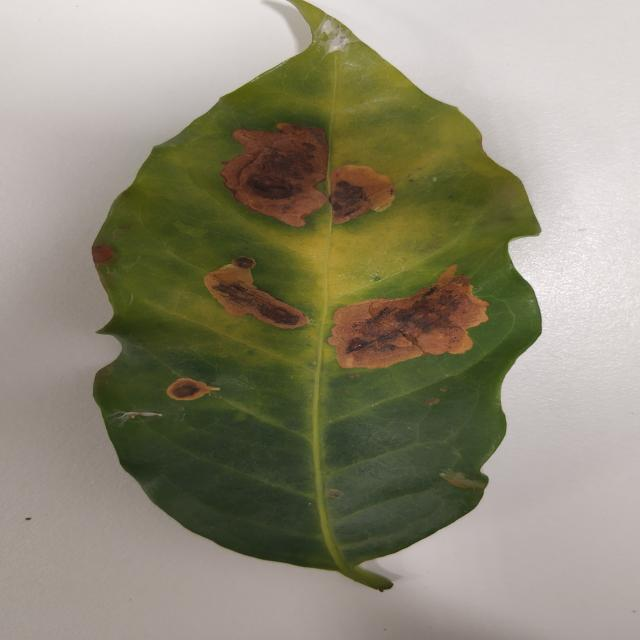Plaga-Minador: (90, 3, 543, 594)
